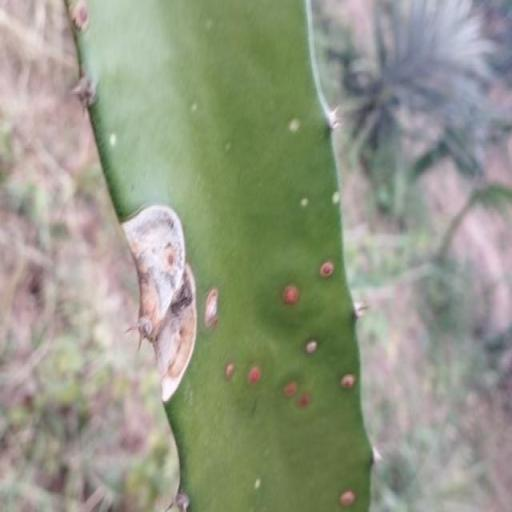stemcanker: (200, 280, 224, 340), (336, 481, 363, 512), (71, 0, 92, 36), (280, 282, 304, 309), (336, 369, 359, 397), (284, 109, 306, 136), (316, 258, 336, 282), (247, 360, 264, 387), (279, 376, 298, 400), (296, 390, 316, 411), (221, 360, 239, 380), (304, 336, 320, 358), (297, 192, 313, 213), (107, 130, 119, 154), (251, 472, 264, 494), (331, 188, 341, 208)
